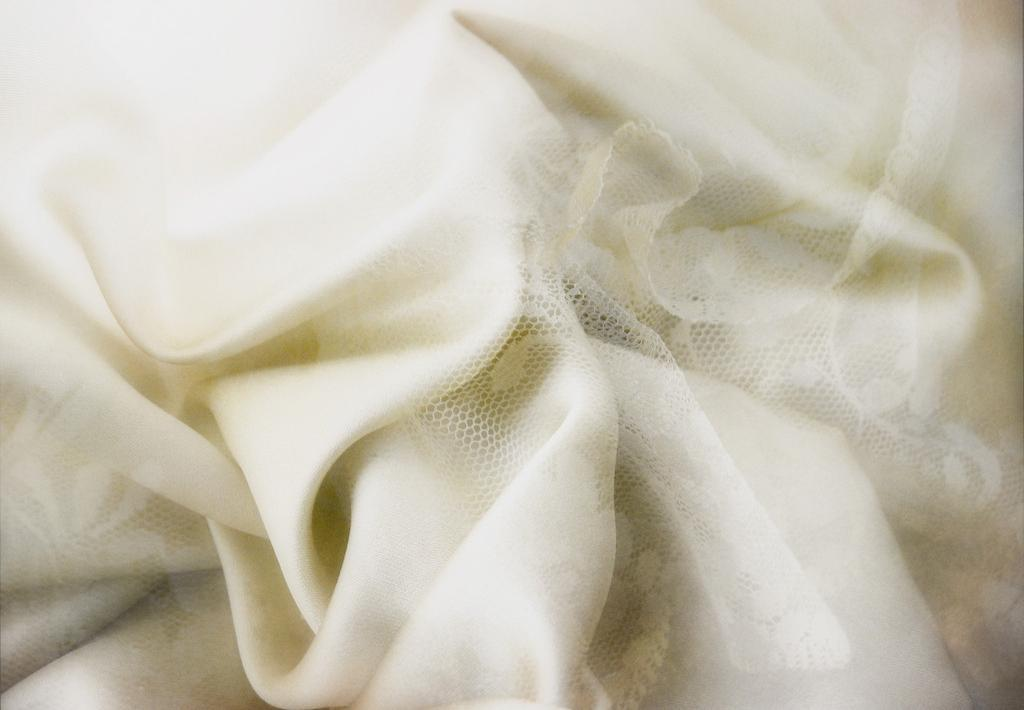flexible: (1, 11, 1019, 710)
